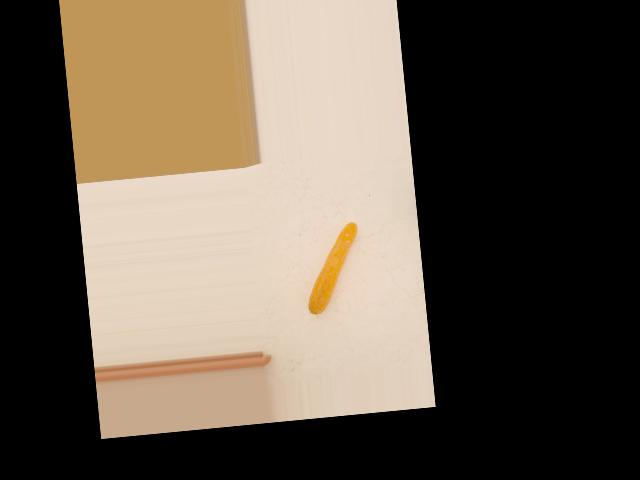carrot: (298, 222, 366, 316)
